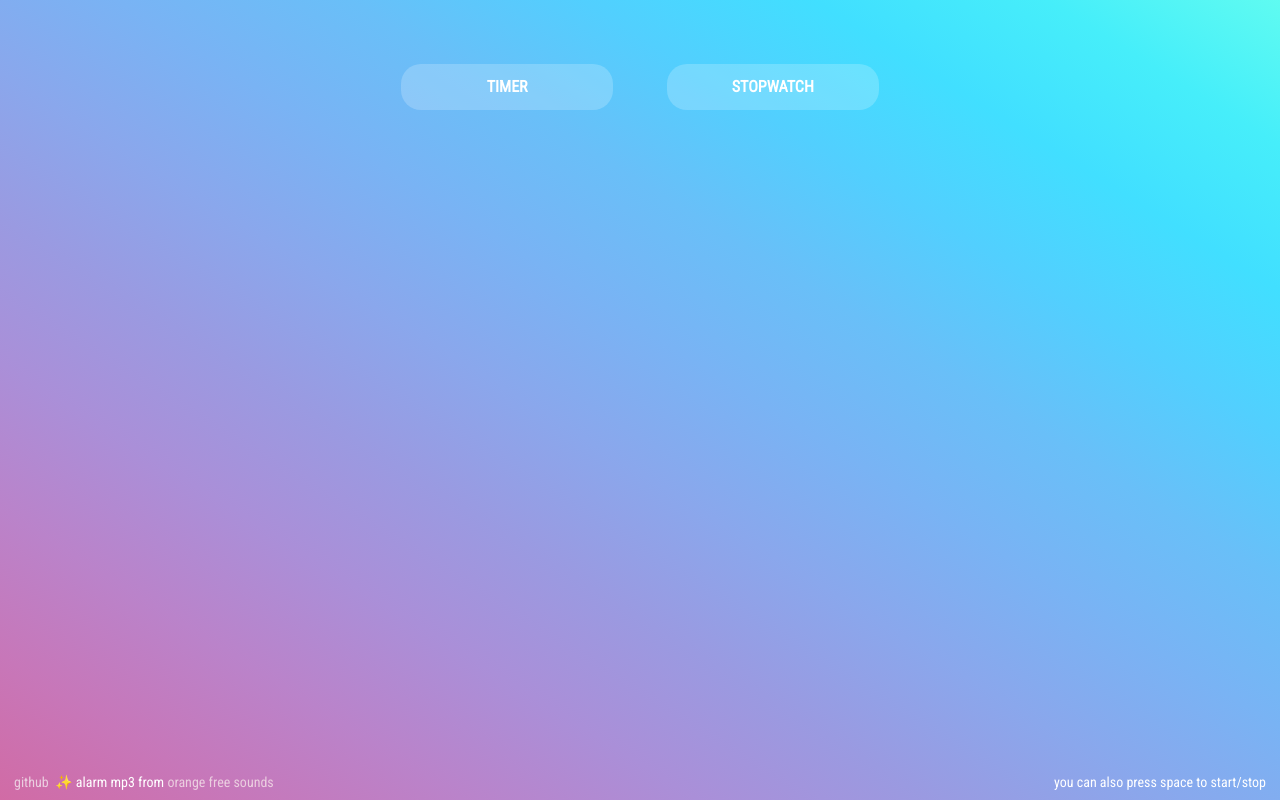
App › Timer and stopwatch switching › When the stopwatch button is clicked › Switches to the stopwatch component
This screenshot has width=1280, height=800.
Click the button with class "stopwatch-selector". click: (773, 87)
box: [666, 64, 879, 110]
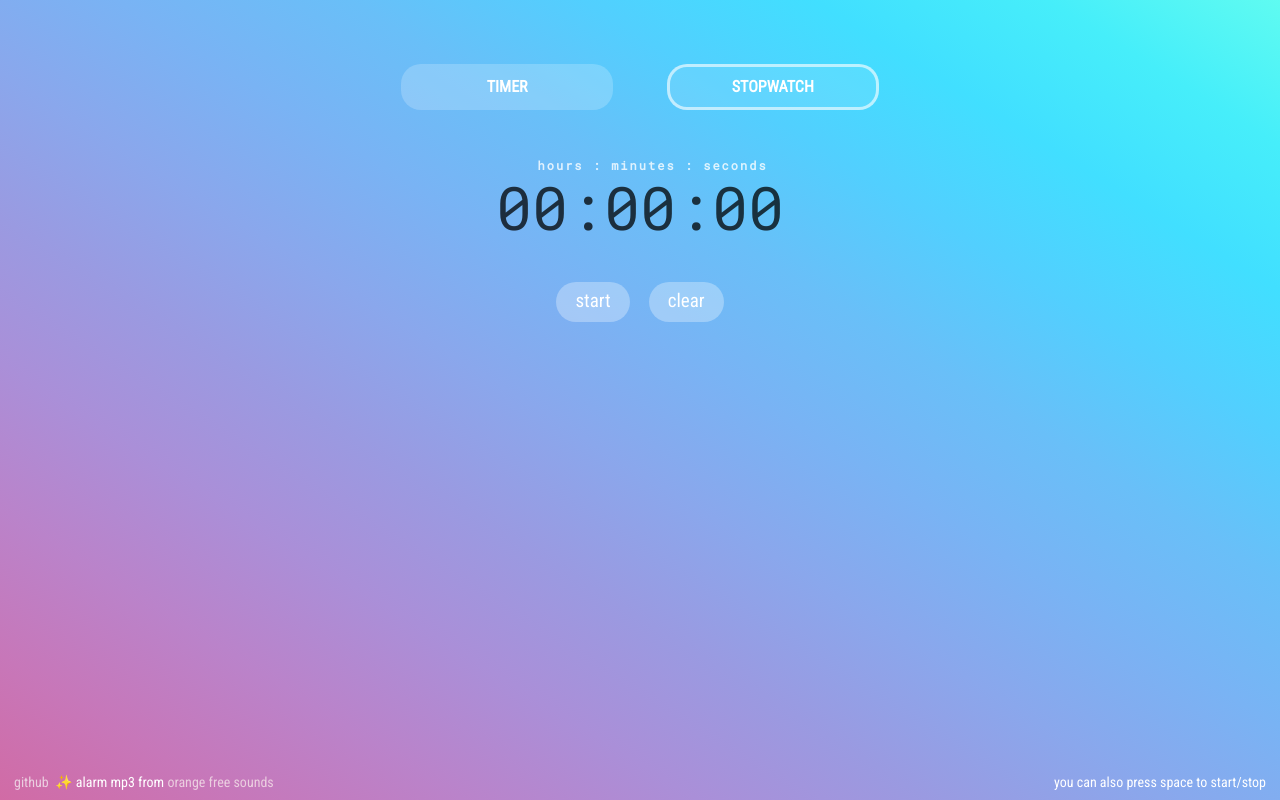
Expected: the button with class "timer-selector" is enabled, [401, 64, 613, 110]
Expected: the button with class "stopwatch-selector" is disabled, [666, 64, 879, 110]
